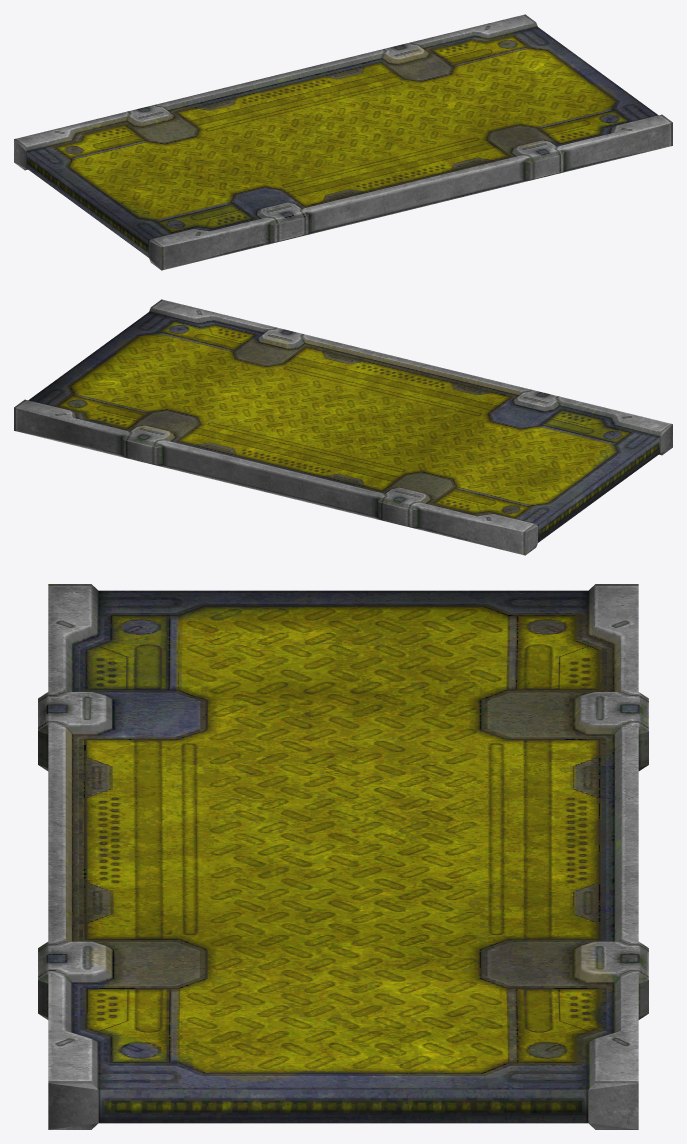
Rendered from catwalk_straight_nohandrail.dae.
3 renders of one model, top to bottom at view 1: azimuth 30°, elevation 25°; view 2: azimuth 150°, elevation 25°; view 3: azimuth 270°, elevation 25°, orthographic. The views are drawn at different scales.
Visible parts, largest first — view 1: polySurface5; view 2: polySurface5; view 3: polySurface5.
Part boxes in pixels (bbox=[...]): polySurface5: bbox=[14, 14, 672, 270]; polySurface5: bbox=[14, 299, 672, 555]; polySurface5: bbox=[38, 584, 648, 1129].
Bounding box in the file's own units: 4 × 0.1745 × 2.07.
Materials: 1 (1 with a texture image).
